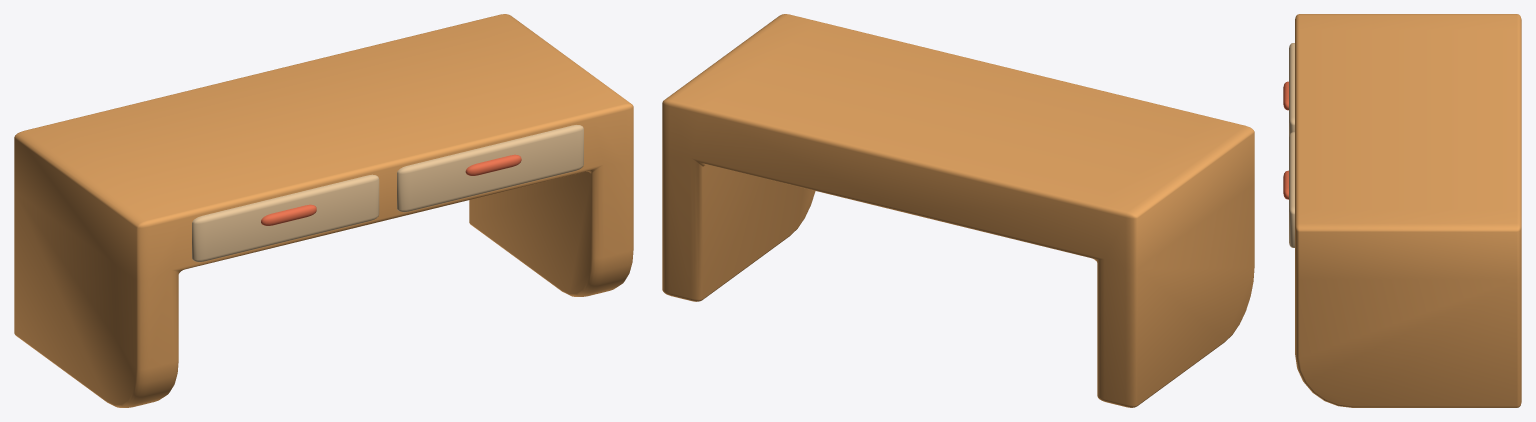
Rendered from table-transformed.glb.
3 views of the same model, side by side, from view 1: azimuth 30°, elevation 25°; view 2: azimuth 150°, elevation 25°; view 3: azimuth 270°, elevation 25° (orthographic). The views are drawn at different scales.
Parts seen in each view (by area): view 1: table; view 2: table; view 3: table.
Boxes of the visible parts, left/top/right/bottom form: table: left=14, top=14, right=633, bottom=407; table: left=662, top=14, right=1254, bottom=407; table: left=1283, top=14, right=1521, bottom=407.
Bounding box in the file's own units: 18.07 × 7.11 × 8.41.
